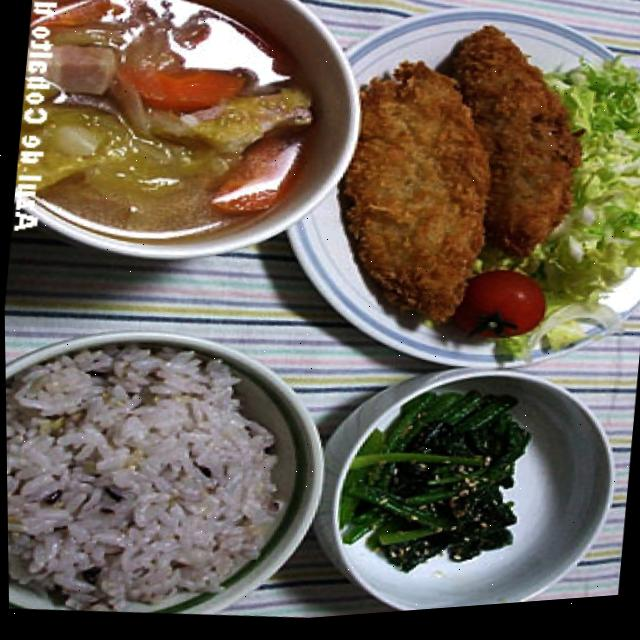炸货点心: (348, 0, 635, 352)
熟制海鲜: (348, 0, 635, 352)
